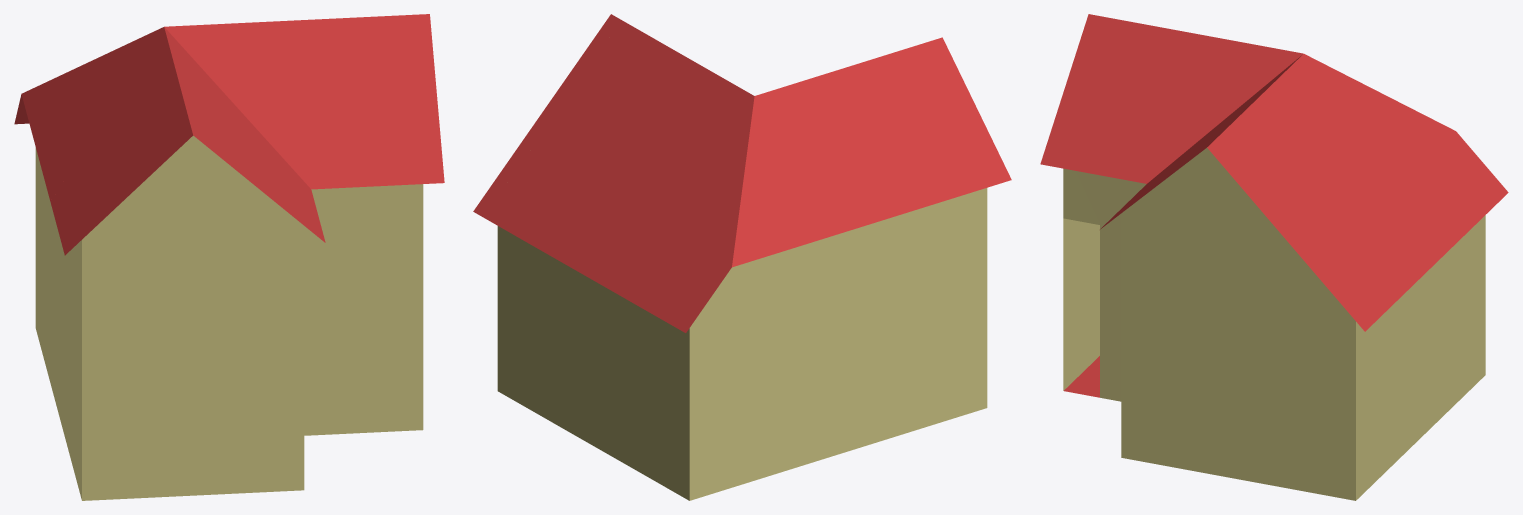
3 views of the same model, side by side, from view 1: azimuth 30°, elevation 25°; view 2: azimuth 150°, elevation 25°; view 3: azimuth 270°, elevation 25° (orthographic). The views are drawn at different scales.
Size of the model in its own units: 20.98 by 19.95 by 15.7.
